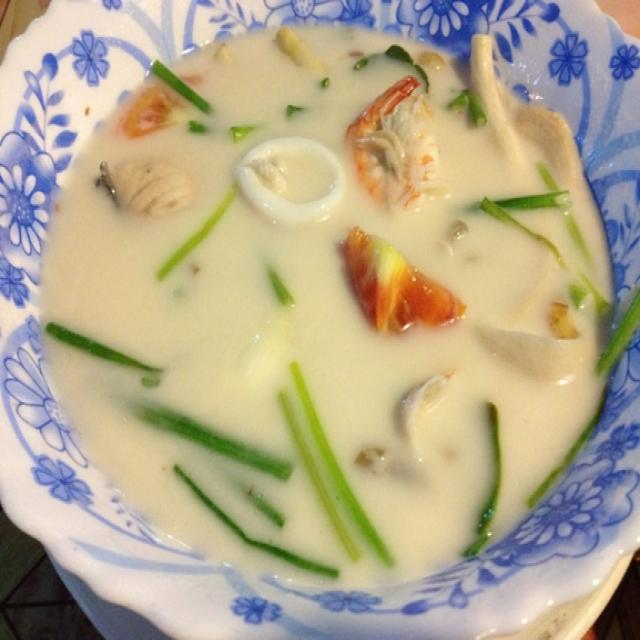汤锅炖物: (30, 13, 623, 615)
